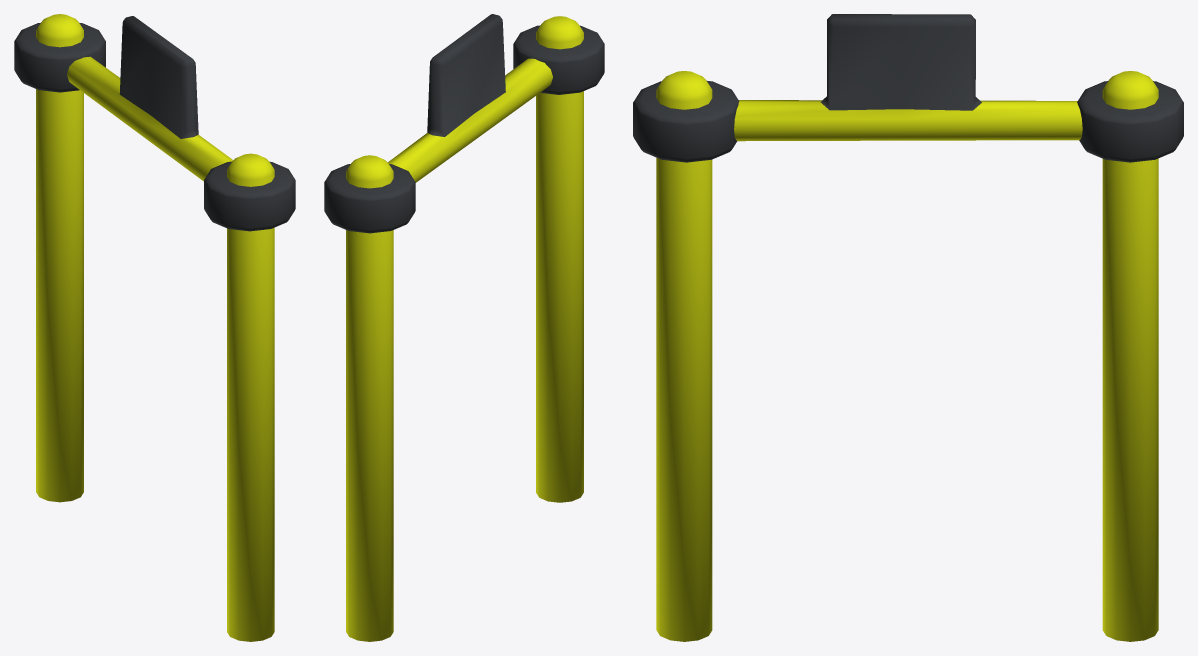
File: Makine.fbx
The picture shows the model from 3 angles, left to right: view 1: azimuth 30°, elevation 25°; view 2: azimuth 150°, elevation 25°; view 3: azimuth 270°, elevation 25°; orthographic projection. The views are drawn at different scales.
Parts seen in each view (by area): view 1: Makine; view 2: Makine; view 3: Makine.
Part boxes in pixels (left/top/right/bottom): Makine: left=14, top=14, right=295, bottom=641; Makine: left=324, top=14, right=604, bottom=641; Makine: left=633, top=14, right=1183, bottom=641.
Size of the model in its own units: 75.61 by 479 by 389.
